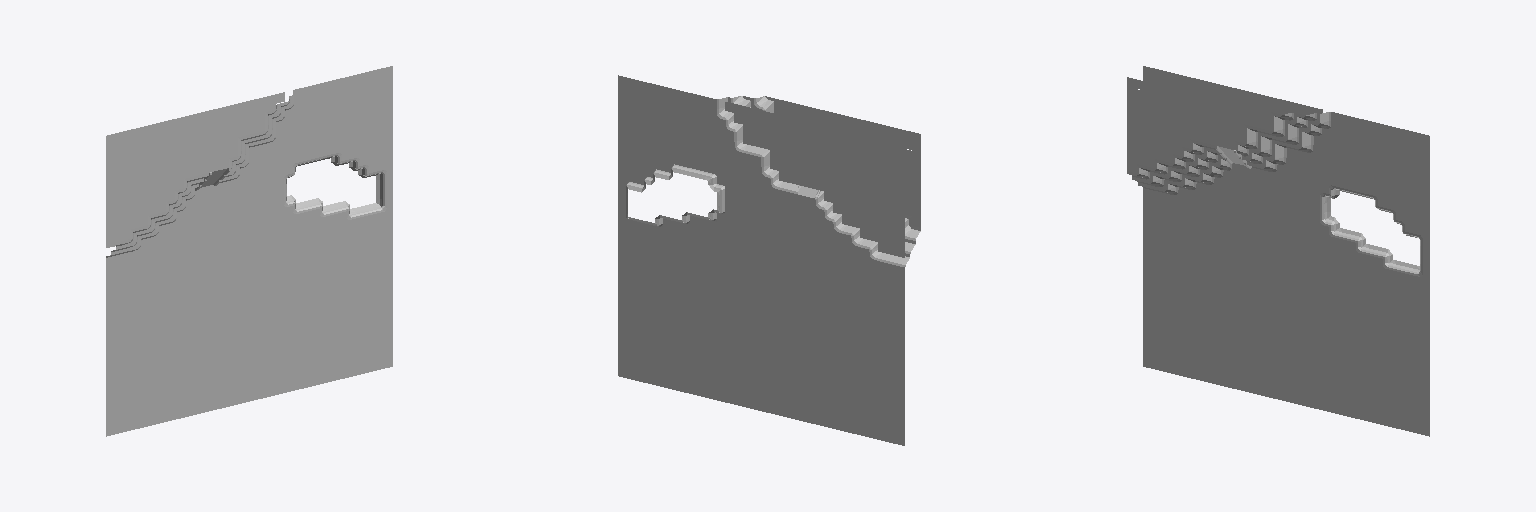
The model's file is testa_00_01.obj.
3 renders of one model, left to right at view 1: azimuth 30°, elevation 25°; view 2: azimuth 150°, elevation 25°; view 3: azimuth 330°, elevation 25°, orthographic.
Visible parts, largest first — view 1: map; view 2: map; view 3: map.
Part boxes in pixels (left/top/right/bottom): map: left=106, top=66, right=392, bottom=436; map: left=618, top=75, right=920, bottom=445; map: left=1127, top=66, right=1429, bottom=436.
Size of the model in its own units: 32 by 32 by 3.72.